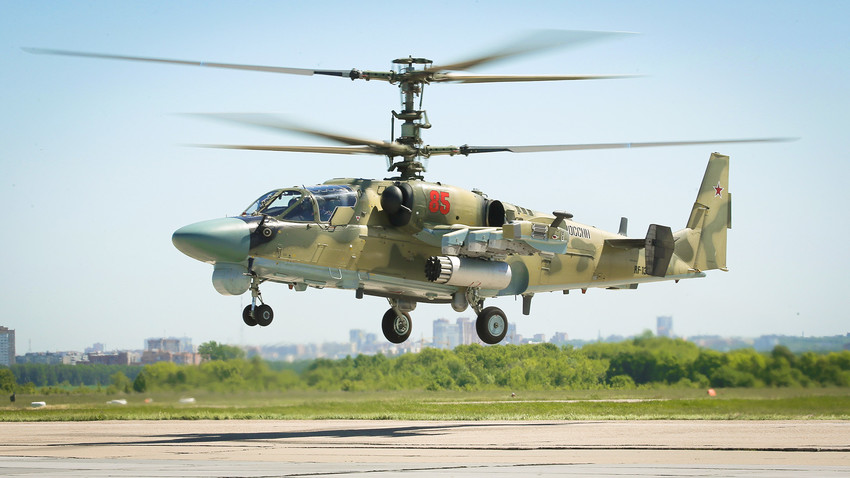Aeronef_militaire: (20, 24, 809, 352)
